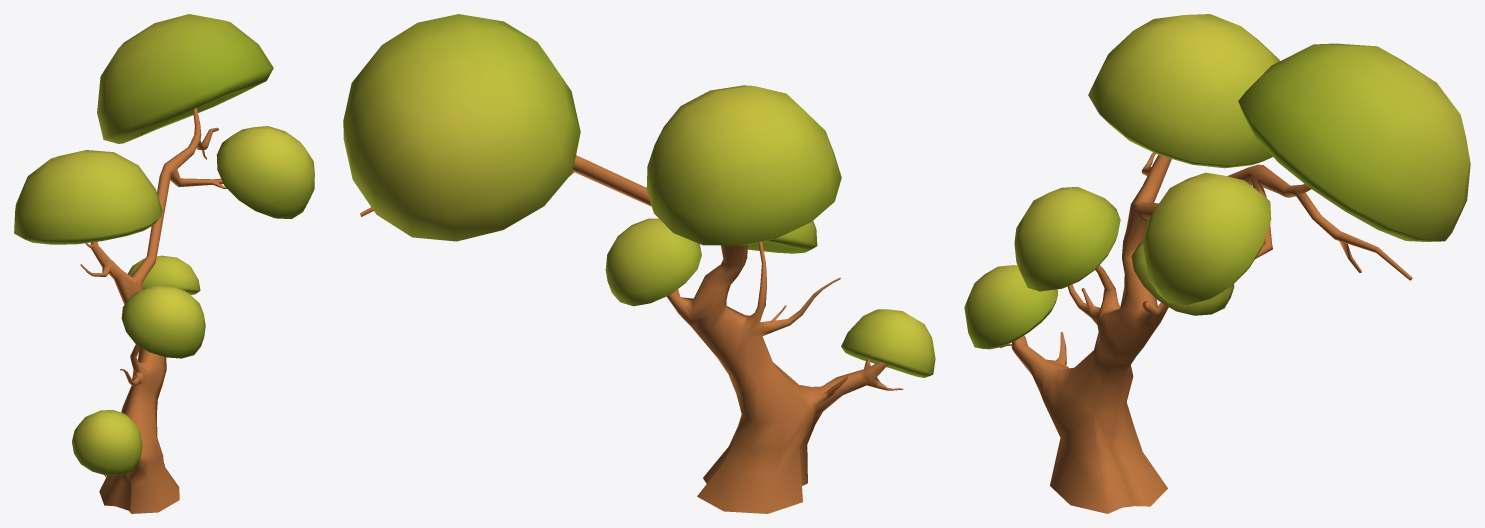
The model's file is SM_Tree_19.fbx.
3 views of the same model, side by side, from view 1: azimuth 30°, elevation 25°; view 2: azimuth 150°, elevation 25°; view 3: azimuth 270°, elevation 25° (orthographic). The views are drawn at different scales.
Parts seen in each view (by area): view 1: SM_Tree_19; view 2: SM_Tree_19; view 3: SM_Tree_19.
Part boxes in pixels (bbox=[...]): SM_Tree_19: bbox=[14, 14, 314, 513]; SM_Tree_19: bbox=[343, 14, 935, 513]; SM_Tree_19: bbox=[964, 14, 1470, 513].
Size of the model in its own units: 995 by 1155 by 1007.
